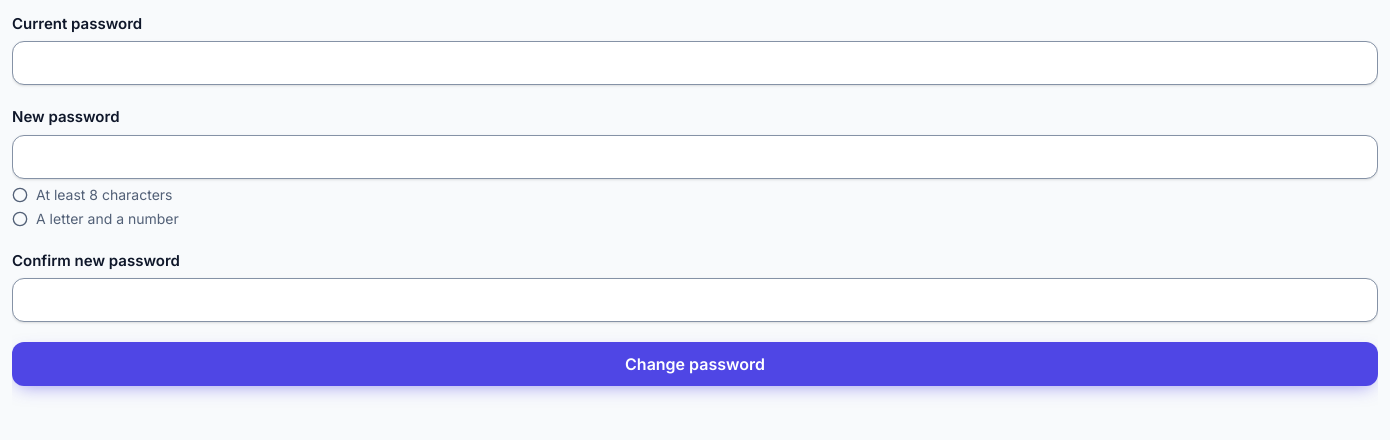
Test: ChangePasswordForm › a wrong current password is shown on that field with an error toast, never a refresh
In the password field with test id "change-password-current-input": (695,63) [12,41,1378,85], type "Wrong2026x"
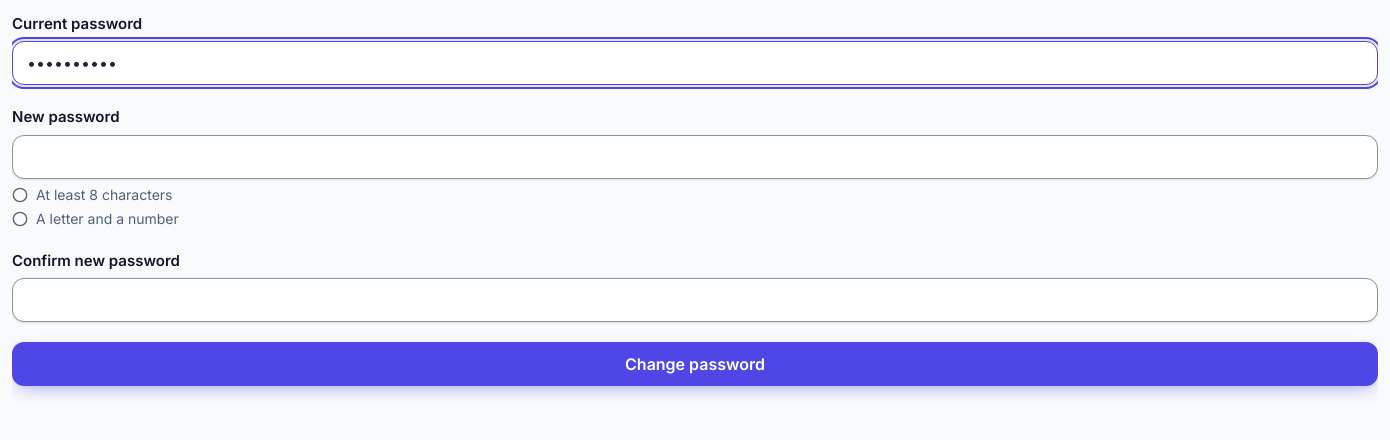
In the password field with test id "change-password-new-input": (695,156) [12,134,1378,178], type "Moonrise2027y"
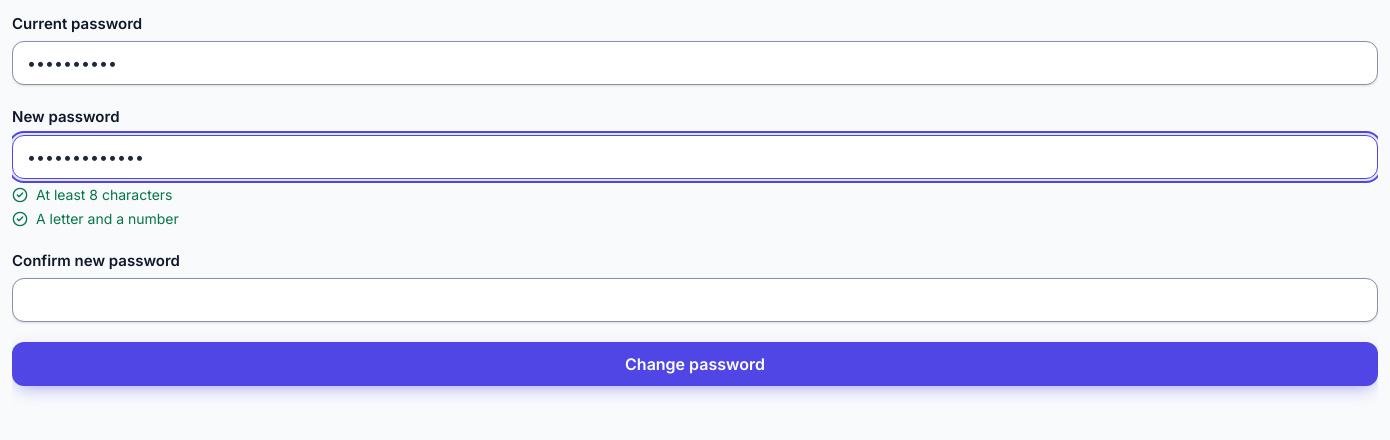
In the password field with test id "change-password-confirm-input": (695,300) [12,278,1378,322], type "Moonrise2027y"
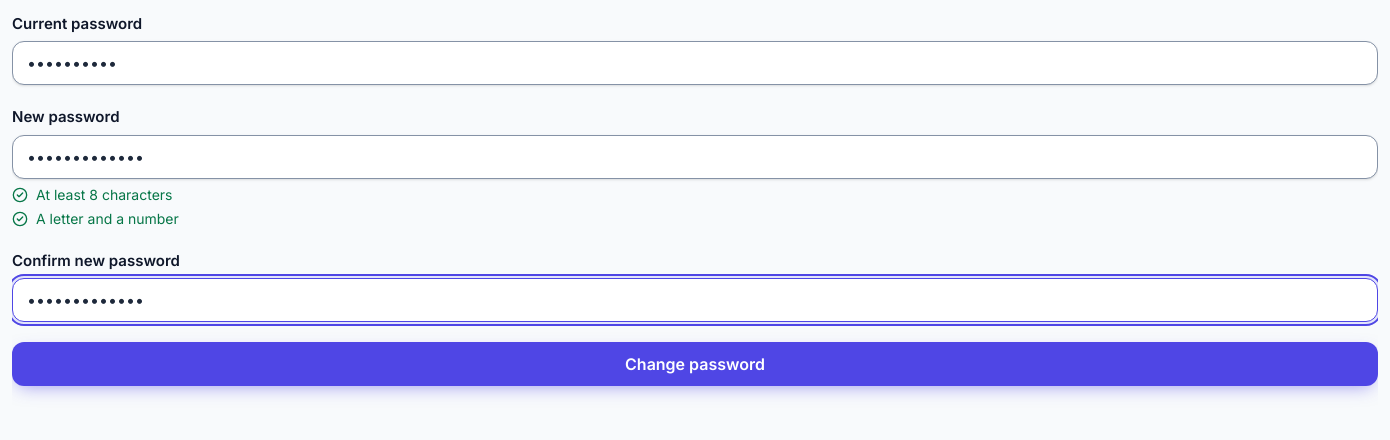
Click the button with test id "change-password-submit-button": (695,364) [12,342,1378,386]
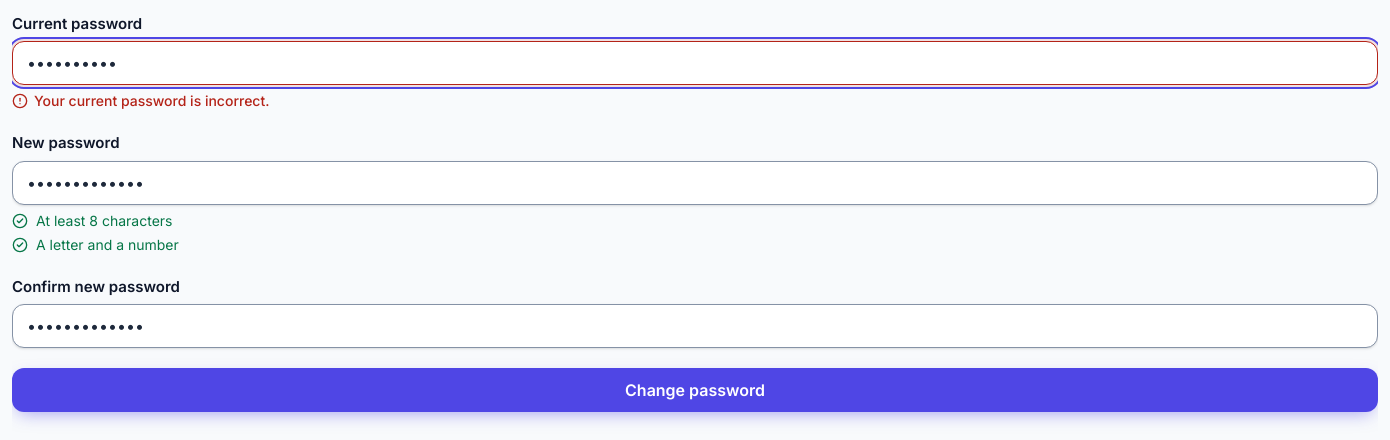
Result: the element with test id "currentPassword-error" reads "Your current password is incorrect." at [34,92,270,109]
